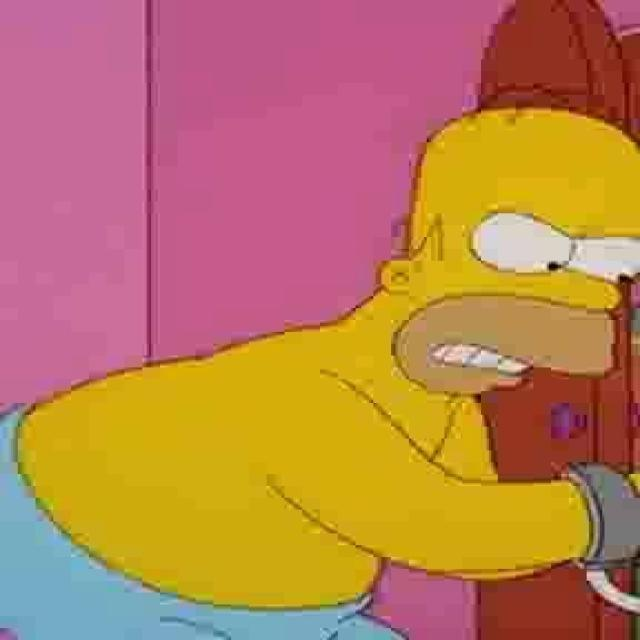Homer Simpson: (373, 87, 640, 411)
